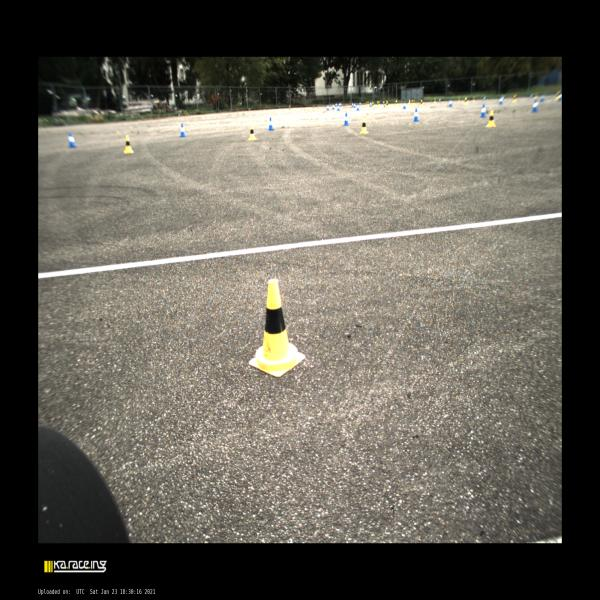blue_cone: (67, 132, 77, 148), (179, 123, 186, 137), (343, 112, 350, 126), (480, 104, 487, 118), (268, 117, 274, 130), (413, 108, 419, 121), (532, 99, 538, 112), (356, 103, 360, 111), (499, 96, 503, 104), (540, 94, 544, 102), (326, 104, 330, 110), (403, 101, 406, 109), (449, 99, 452, 107), (332, 103, 335, 110), (337, 105, 340, 111), (353, 102, 356, 108), (483, 96, 486, 101), (335, 103, 338, 107), (370, 101, 372, 107), (530, 94, 533, 98), (338, 103, 340, 107), (340, 102, 342, 106), (439, 98, 441, 102), (359, 102, 361, 105), (352, 102, 353, 107), (383, 100, 384, 105)
yellow_cone: (249, 279, 305, 377), (486, 110, 497, 127), (124, 135, 134, 153), (248, 124, 257, 140), (360, 117, 368, 134), (512, 94, 516, 102), (555, 92, 559, 99), (386, 100, 389, 108), (464, 97, 467, 105), (420, 99, 423, 106), (395, 100, 398, 106), (472, 96, 475, 102), (413, 99, 415, 106), (535, 92, 537, 99), (372, 102, 374, 108), (376, 101, 378, 107), (408, 99, 410, 105), (411, 100, 413, 106), (366, 101, 368, 106), (434, 98, 436, 103), (458, 97, 460, 102), (368, 101, 369, 106), (379, 101, 380, 106)
